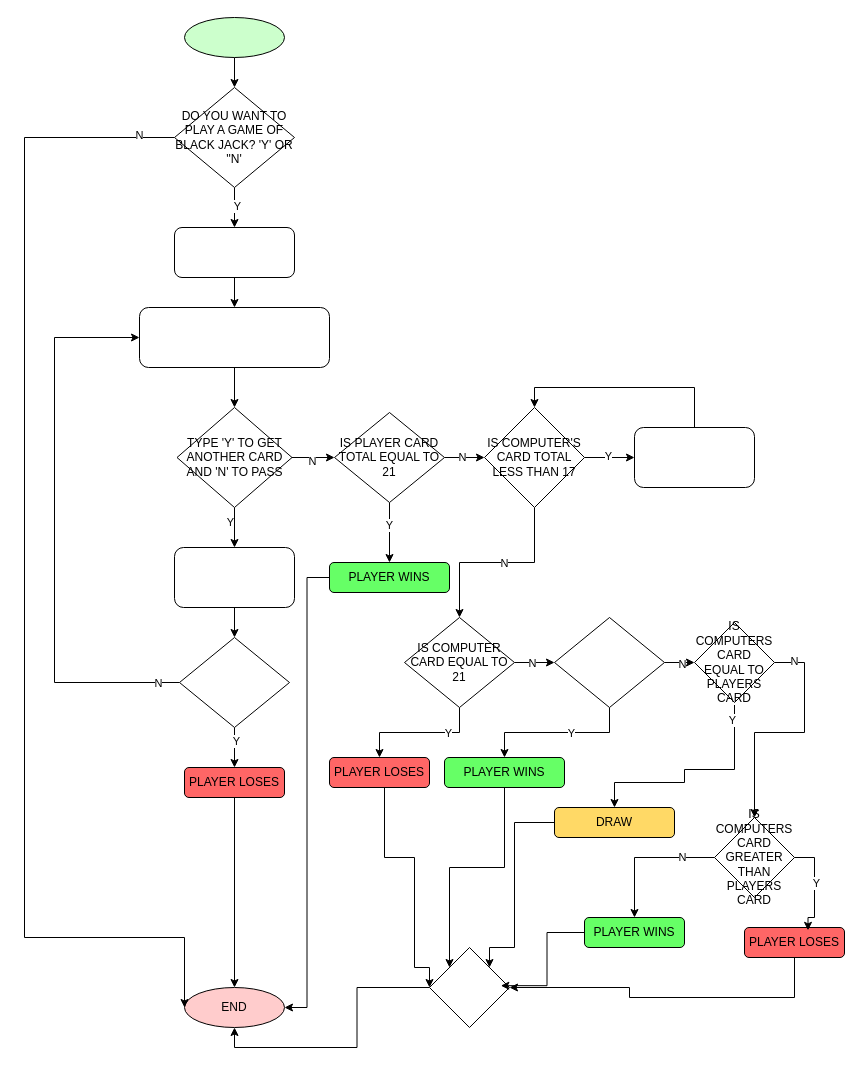
Image size: 862x1073. Some labels were removed from this diagram. Here are the shapes that lost their labels. From the top down, the centre of each, then its label:
the point at 234,37: START
the point at 234,252: GIVE COMPUTER AND PLAYER 2 CARDS EACH
the point at 234,337: DISPLAY ALL PLAYERS CARD AND TOTAL AND SHOW THE COMPUTER'S FIRST CARD
the point at 694,457: ADD ANOTHER CARD TO THE COMPUTER'S CARD COLLECTION
the point at 234,577: GIVE PLAYER ANOTHER CARD TO THEIR COLLECTION
the point at 234,682: IS PLAYER CARD TOTAL MORE THAN 21
the point at 609,662: IS COMPUTER CARD GREATER THAN 21
